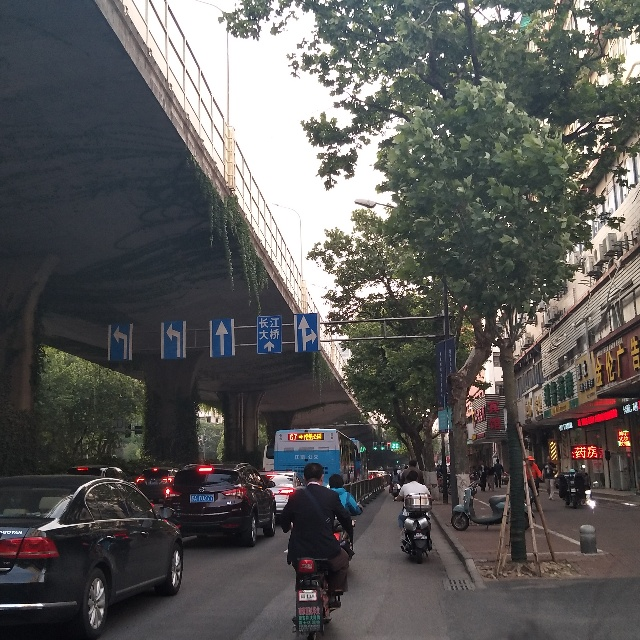left: (106, 320, 132, 363), (161, 321, 186, 358)
straight: (210, 317, 236, 360), (259, 334, 278, 354)
